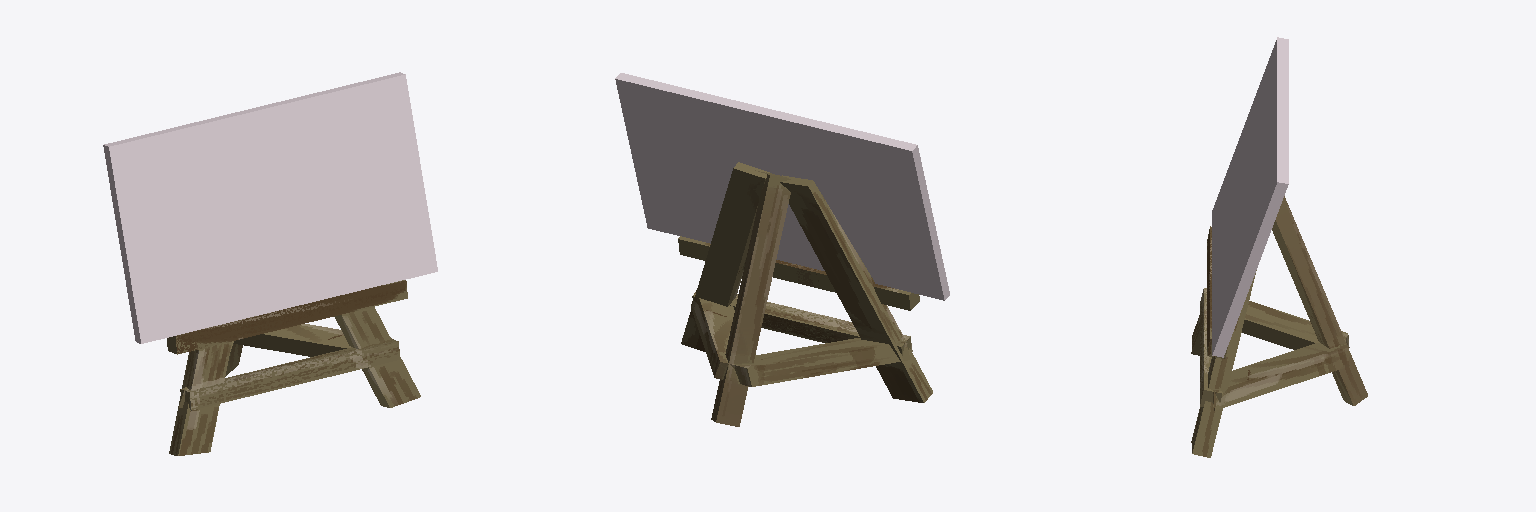
3 views of the same model, side by side, from view 1: azimuth 30°, elevation 25°; view 2: azimuth 150°, elevation 25°; view 3: azimuth 270°, elevation 25° (orthographic).
Parts seen in each view (by area): view 1: Cube.001_Material.005, Cube.001_Material.004; view 2: Cube.001_Material.005, Cube.001_Material.004; view 3: Cube.001_Material.004, Cube.001_Material.005.
Part boxes in pixels (bbox=[...]): Cube.001_Material.005: bbox=[103, 72, 437, 343]; Cube.001_Material.004: bbox=[167, 280, 420, 455]; Cube.001_Material.005: bbox=[615, 73, 949, 300]; Cube.001_Material.004: bbox=[678, 162, 932, 426]; Cube.001_Material.004: bbox=[1191, 196, 1367, 457]; Cube.001_Material.005: bbox=[1212, 37, 1288, 357].
Bounding box in the file's own units: 2.89 × 2.72 × 1.49.
2 materials, 2 textured.